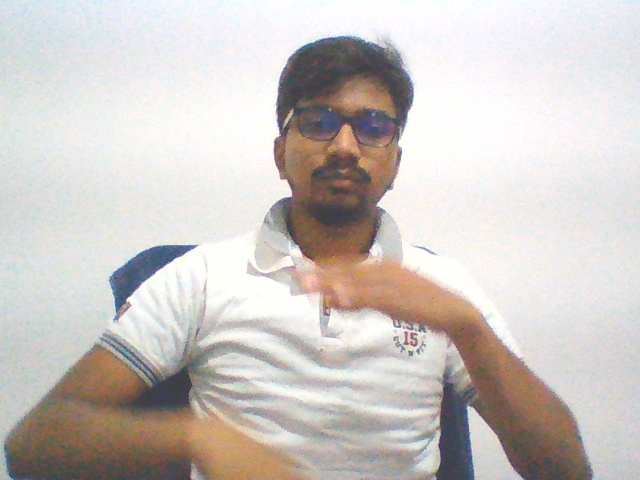elephant: (285, 231, 496, 344)
